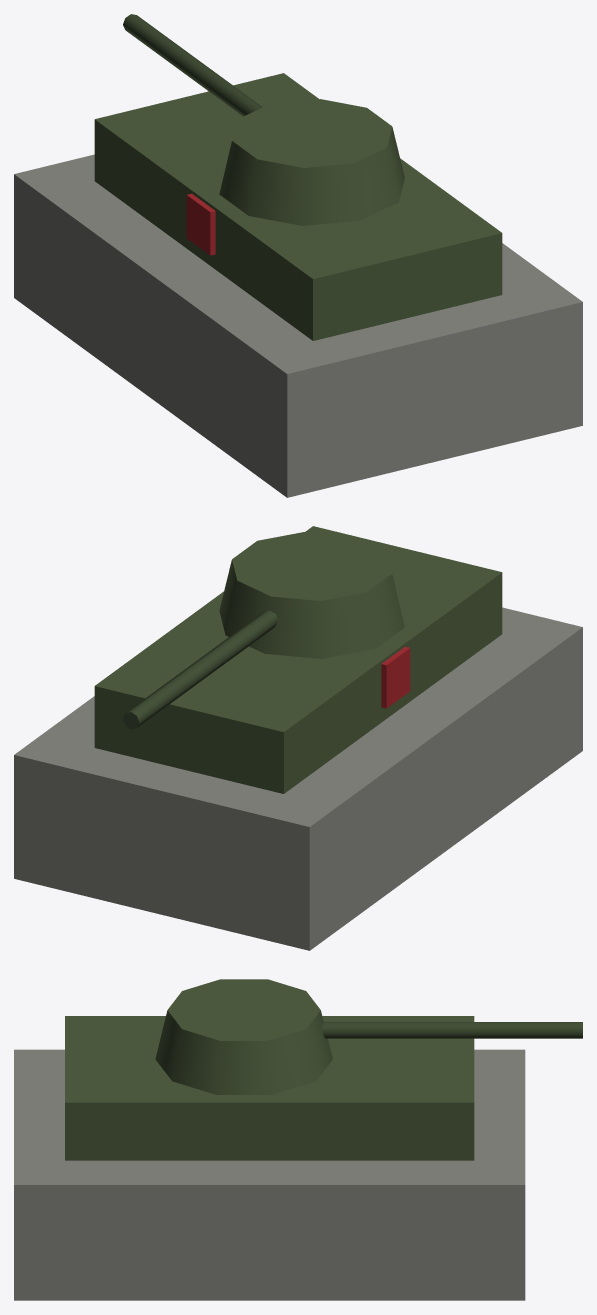
File: theme-military-2.glb
3 views of the same model, one above another, from view 1: azimuth 30°, elevation 25°; view 2: azimuth 150°, elevation 25°; view 3: azimuth 270°, elevation 25° (orthographic). The views are drawn at different scales.
Visible parts, largest first — view 1: 00_#85857f, 01_#4a5a3a, 02_#3c4a30, 03_#a3262c_noshadow_r320; view 2: 00_#85857f, 01_#4a5a3a, 02_#3c4a30, 03_#a3262c_noshadow_r320; view 3: 00_#85857f, 01_#4a5a3a, 02_#3c4a30.
Boxes of the visible parts, x1,y1,x2,y2 form: 00_#85857f: (14, 154, 582, 497); 01_#4a5a3a: (94, 73, 502, 340); 02_#3c4a30: (123, 14, 262, 116); 03_#a3262c_noshadow_r320: (186, 193, 215, 255); 00_#85857f: (14, 607, 582, 950); 01_#4a5a3a: (94, 526, 502, 793); 02_#3c4a30: (123, 610, 278, 729); 03_#a3262c_noshadow_r320: (381, 646, 410, 708); 00_#85857f: (14, 1049, 525, 1300); 01_#4a5a3a: (65, 979, 474, 1160); 02_#3c4a30: (322, 1022, 582, 1038).
Bounding box in the file's own units: 5 × 3.85 × 8.9.
